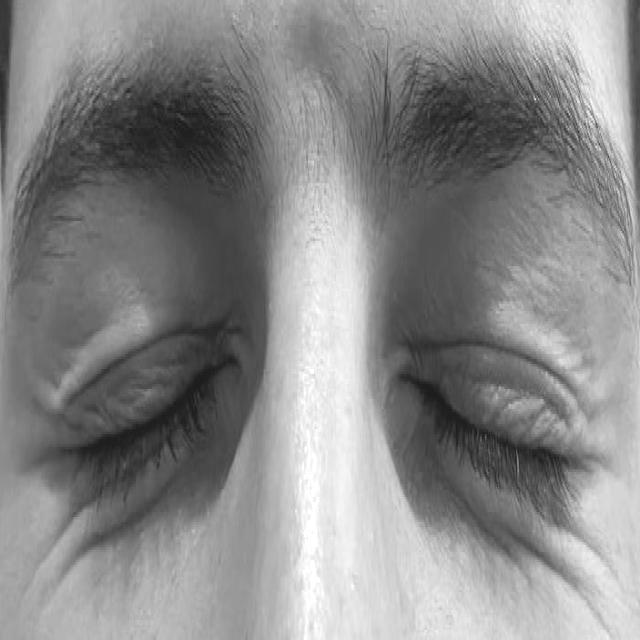real: (30, 150, 622, 614)
